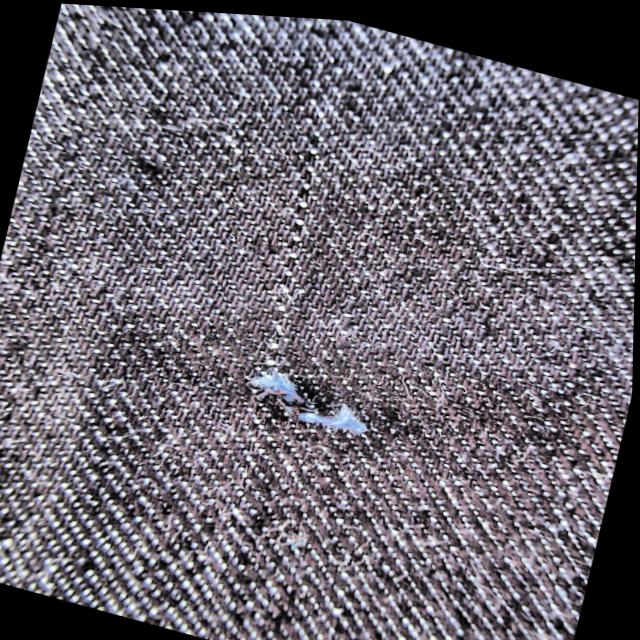Hole: (211, 329, 430, 472)
